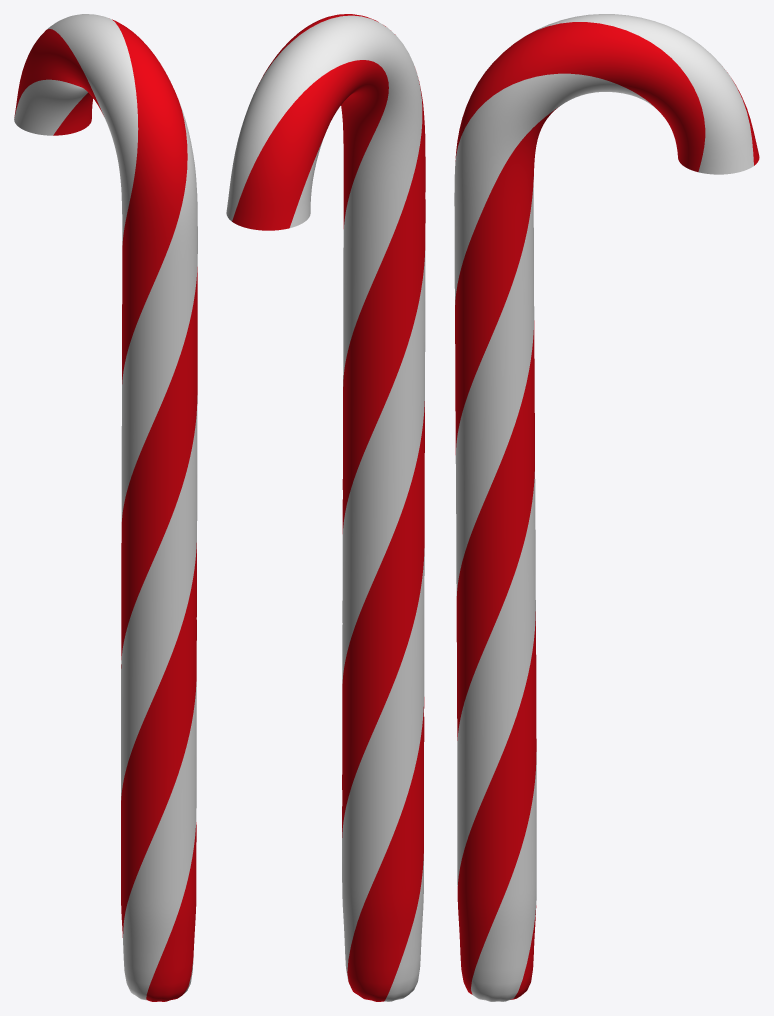
Rendered from Candy Cane(Ver1).fbx.
The picture shows the model from 3 angles, left to right: view 1: azimuth 30°, elevation 25°; view 2: azimuth 150°, elevation 25°; view 3: azimuth 270°, elevation 25°; orthographic projection. The views are drawn at different scales.
Visible parts, largest first — view 1: Circle; view 2: Circle; view 3: Circle.
Part boxes in pixels (x1,y1,x2,y2): Circle: (14,14,197,1001); Circle: (226,14,425,1001); Circle: (454,14,759,1001).
Bounding box in the file's own units: 191 × 2522 × 715.
